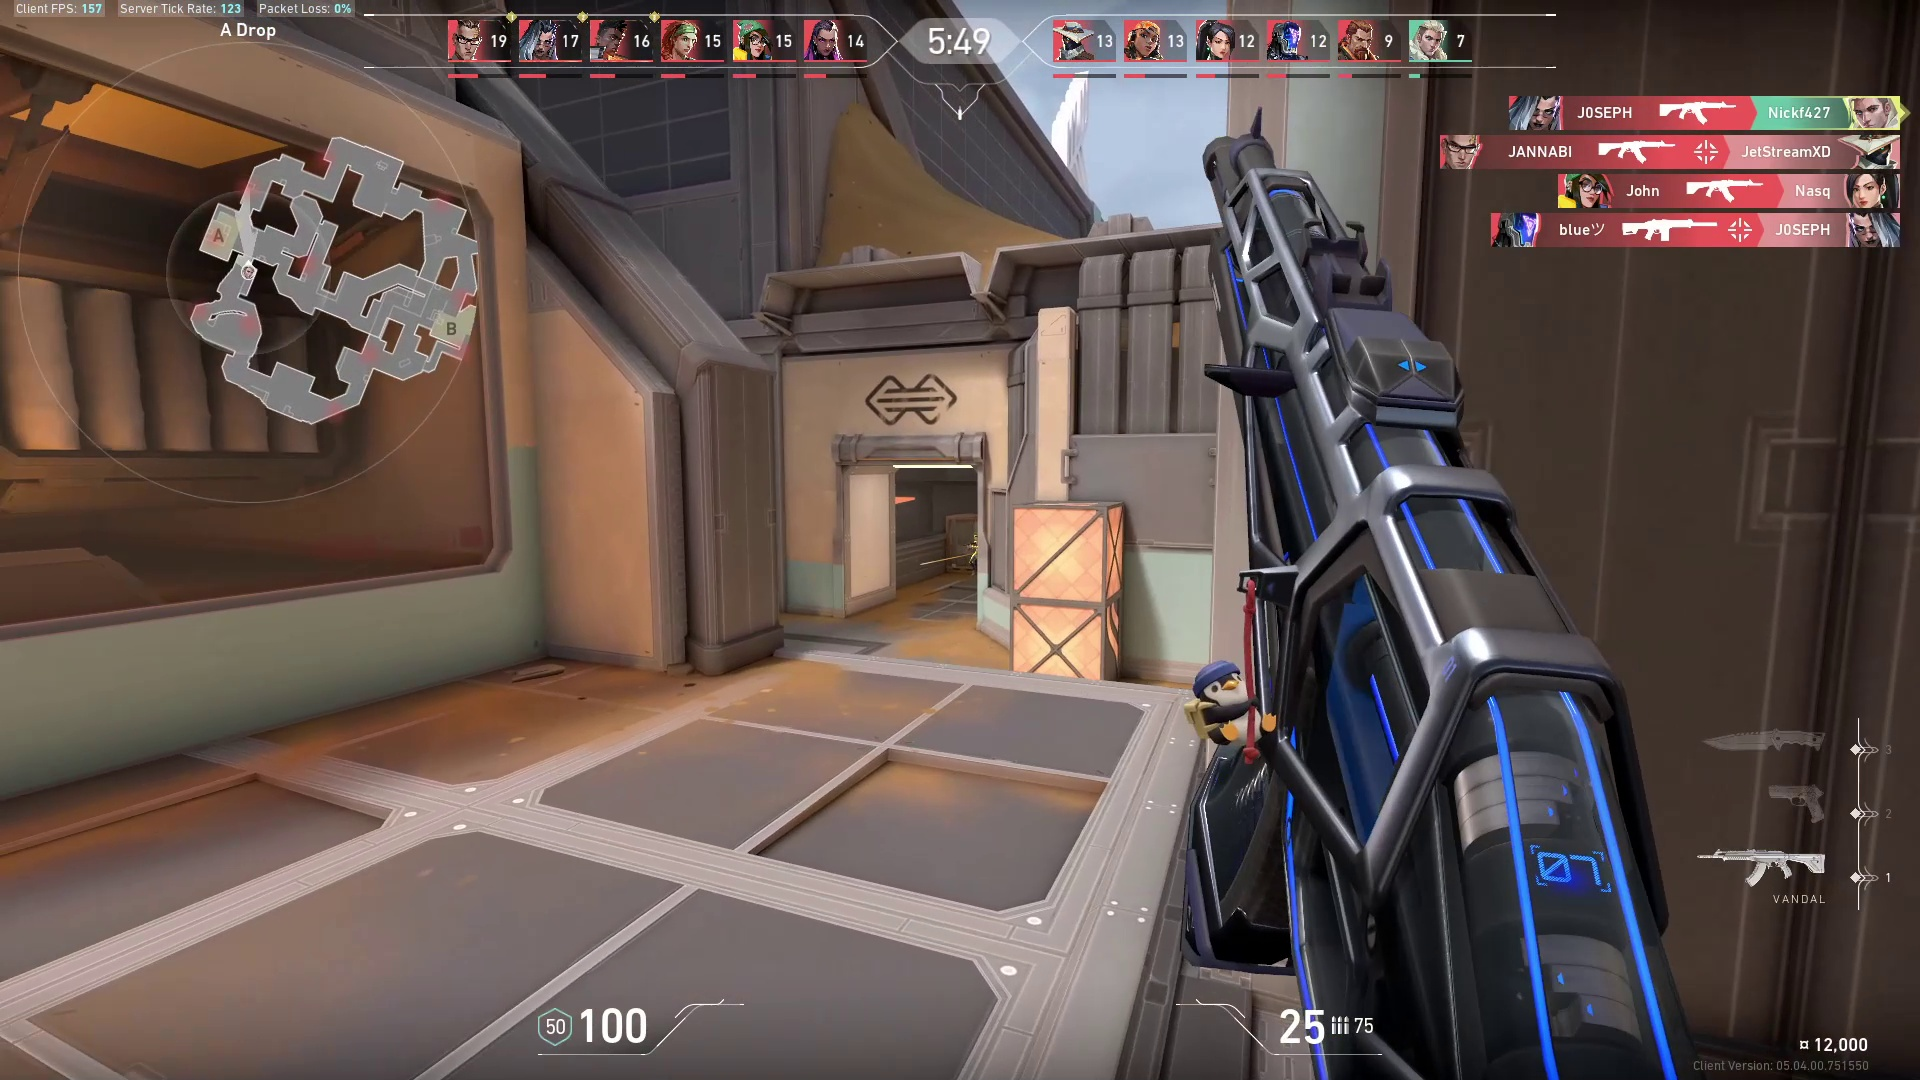enemy_body: (965, 543, 978, 578)
enemy_head: (972, 533, 978, 542)
